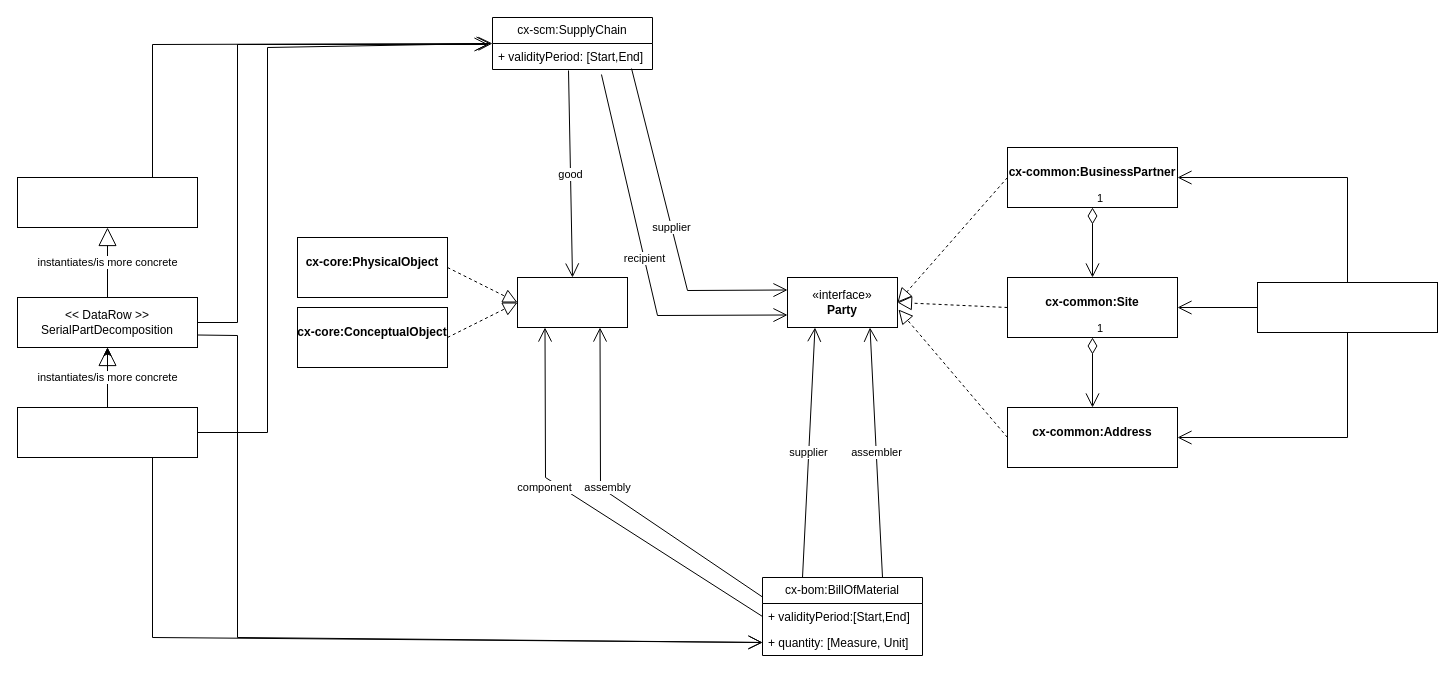
The diagram is 1455 pixels wide and 676 high, and some of its shapes have lost their labels. The shapes that lost their labels are listed below. From the top down, each one's centre as x and y in pixels, then its label:
[107,202]: << DataRow >> SupplyChainInformation
[572,302]: «interface» Good
[1347,307]: << Service >> BusinessPartnerManagement
[107,432]: << DataRow >> PartSeriesConstruction
